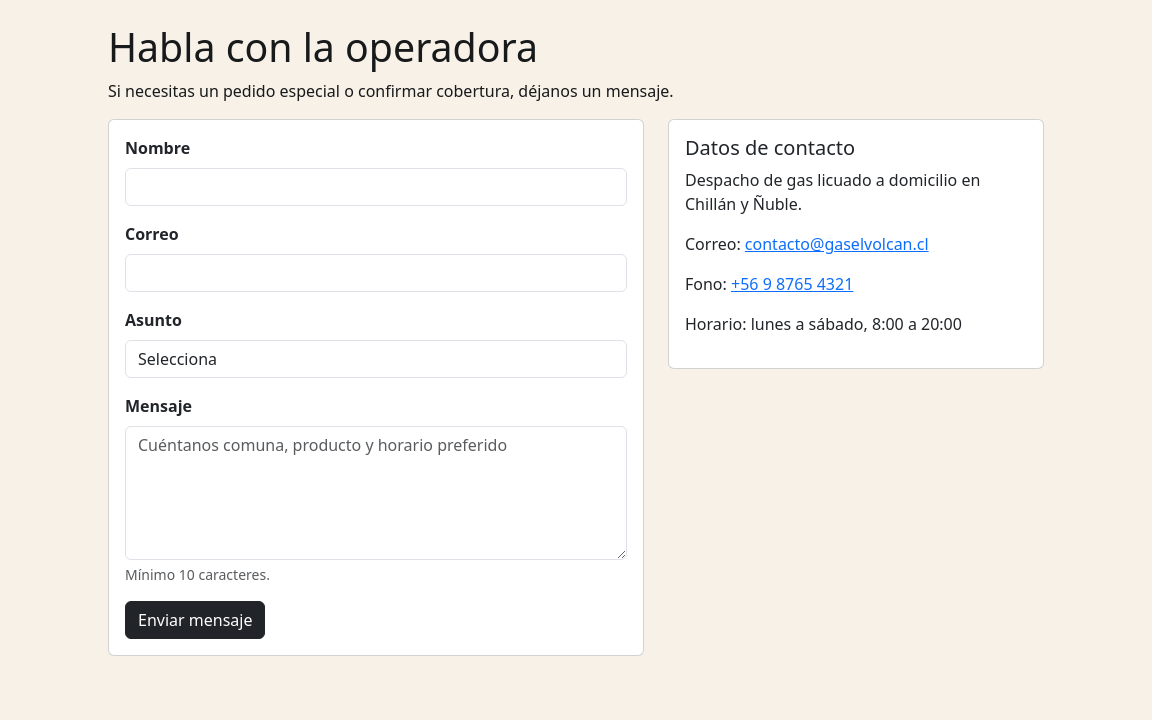
Test: Contacto › muestra mensaje de exito con datos validos
Type "Juan Perez" into the field labelled "Nombre" at (376,187), box x1=125 y1=168 x2=627 y2=206
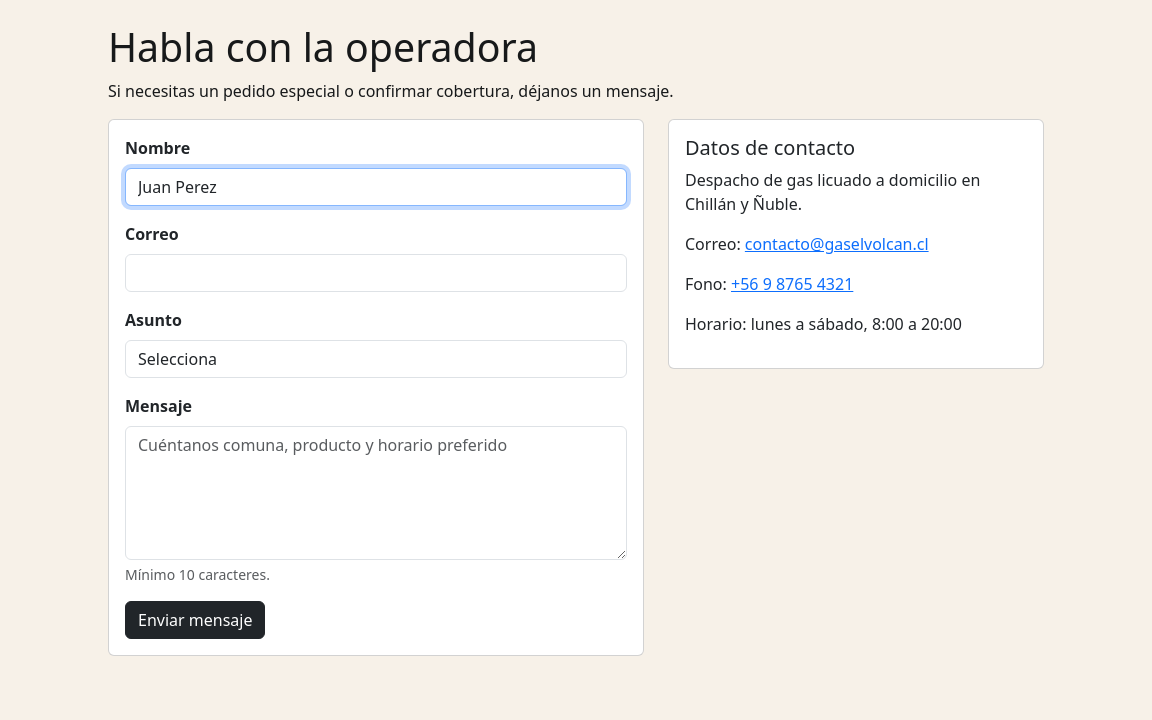
Type "juan@mail.cl" into the field labelled "Correo" at (376,273), box x1=125 y1=254 x2=627 y2=292
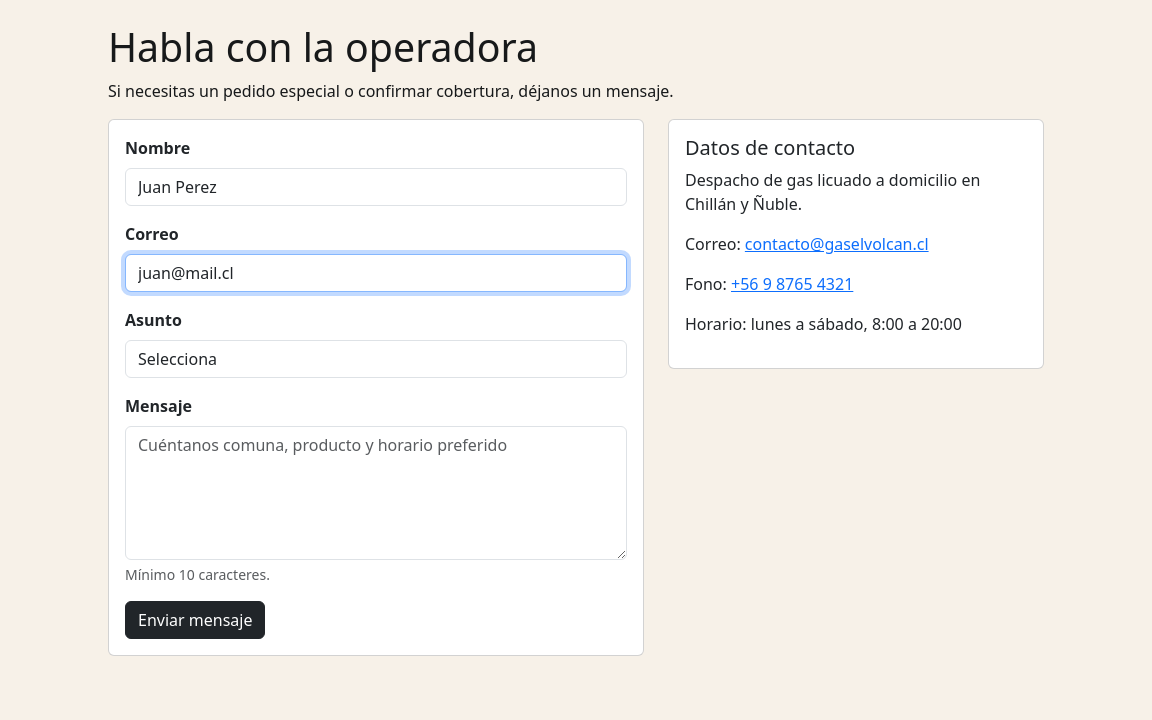
Select "Consulta de pedido" in the dropdown labelled "Asunto" at (376,359), box x1=125 y1=340 x2=627 y2=378
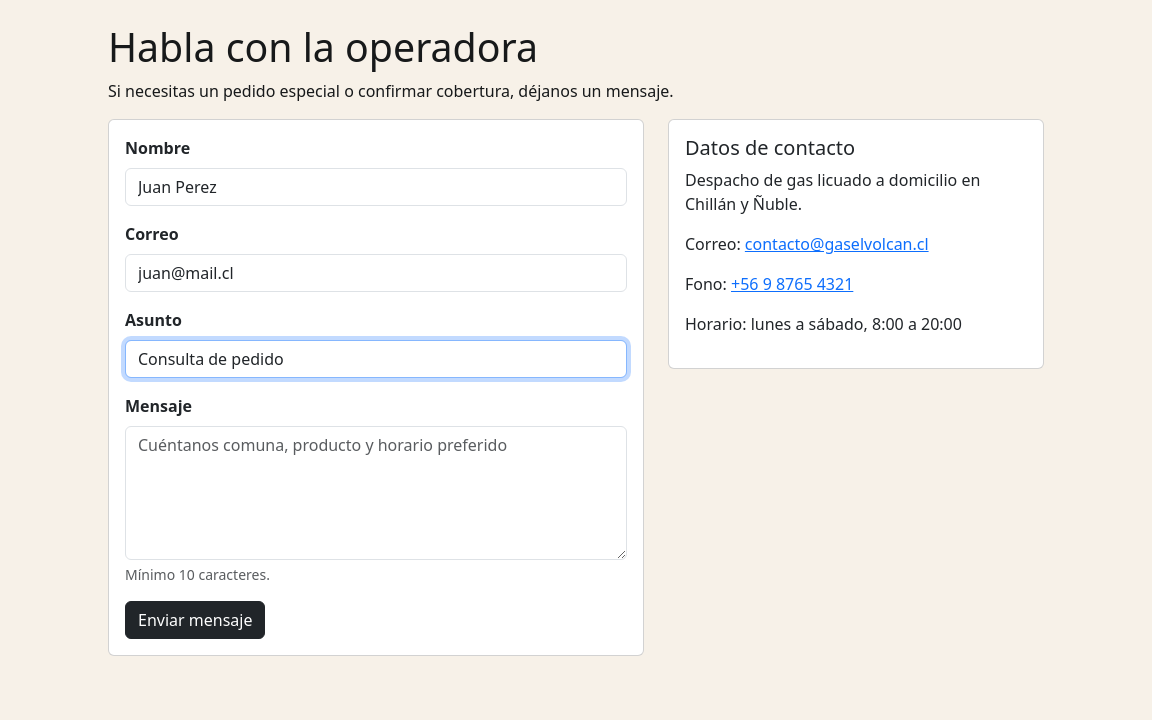
Type "Necesito un cilindro de 15 kg en Chillan" into the text box labelled "Mensaje" at (376,493), box x1=125 y1=426 x2=627 y2=560
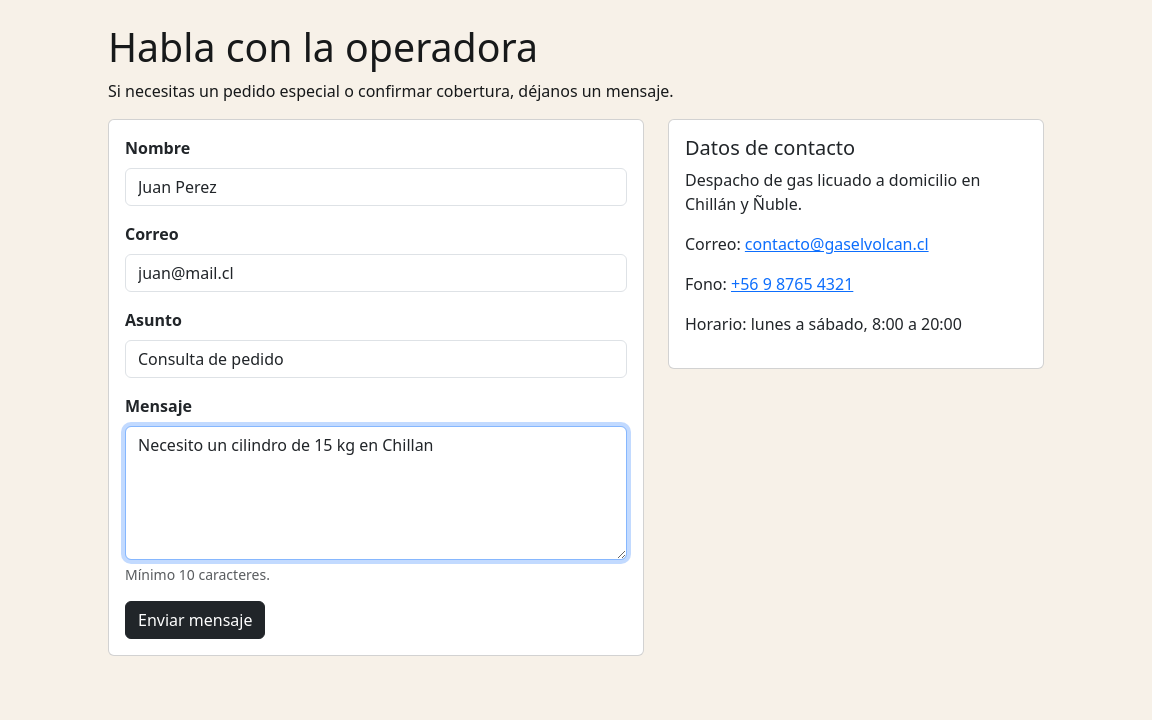
Click the button "Enviar mensaje" at (195,620), box x1=125 y1=601 x2=266 y2=639
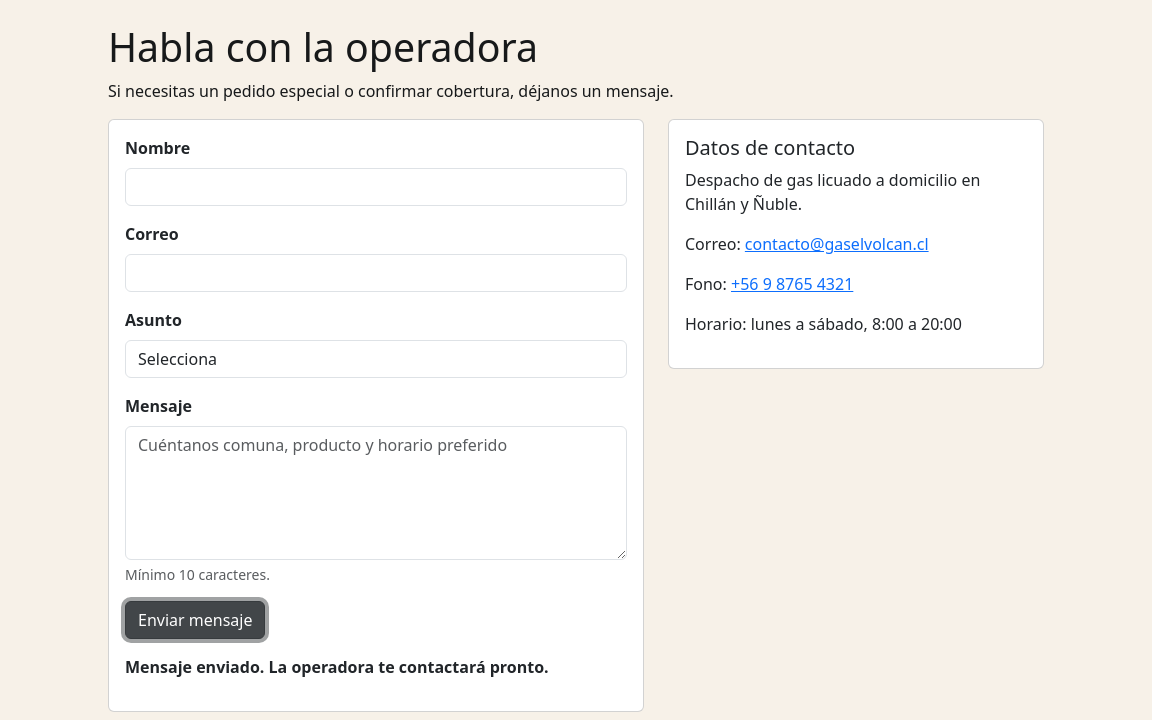
Now the text "Mensaje enviado. La operadora te contactará pronto." is shown, box x1=125 y1=656 x2=549 y2=678
